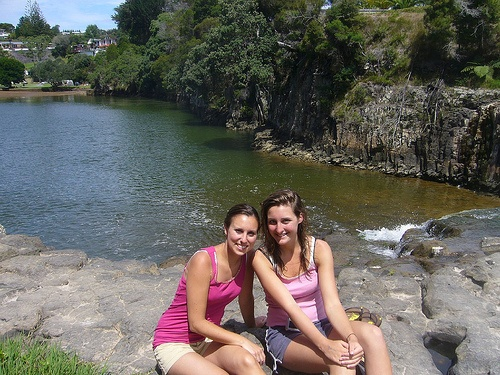head: (262, 189, 304, 245), (224, 203, 260, 256)
person: (251, 186, 404, 373), (151, 204, 280, 372)
